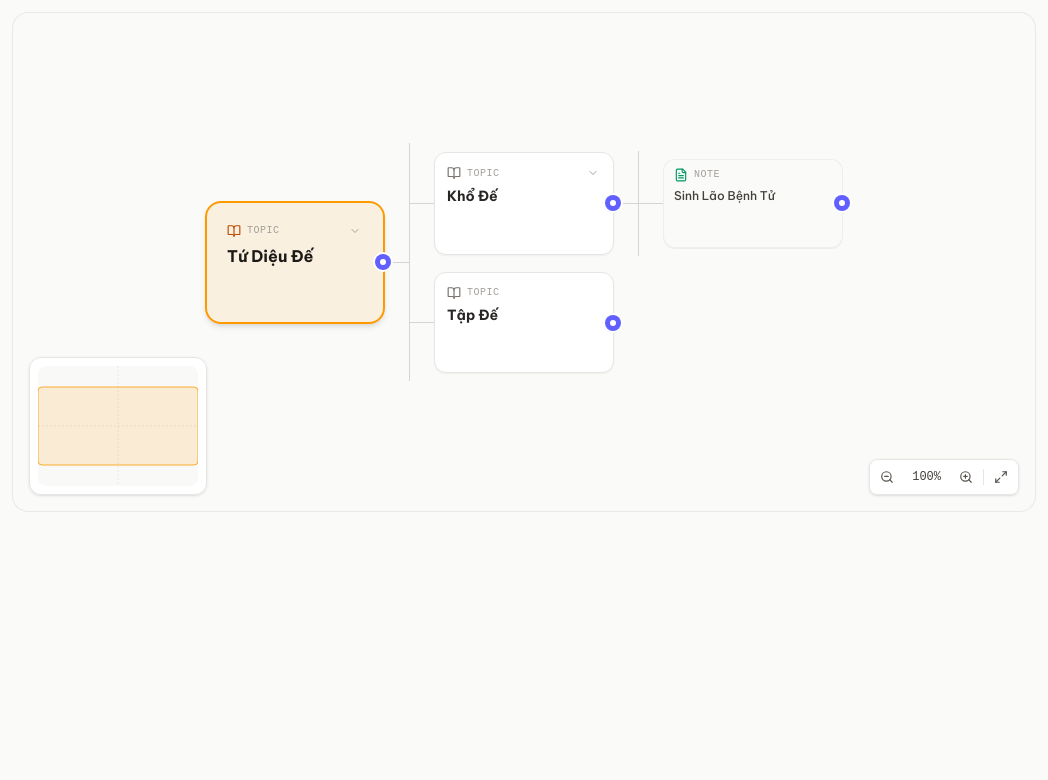
Scenario: Phase M5b — Canvas Direct Drag-to-Connect Unit Tests › 3. Preview Line Tracking & Cancellation › Scenario 3A: pointer-down on handle mounts preview line, pointer-move updates target coordinates
Press the mouse on the button with test id "connector-handle-node-kho-de" at (613, 203), box [605,195,621,211]
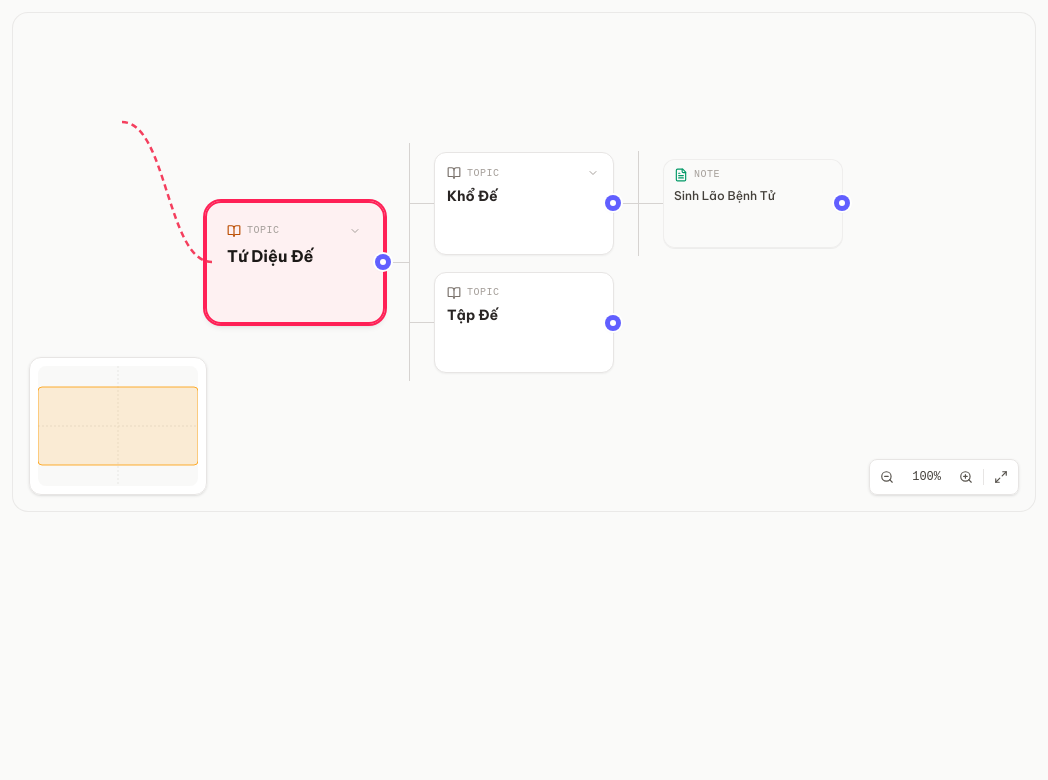
Expected: the element with test id "mindmap-connect-preview-line" is shown, [122,122,212,262]
Result: the icon with test id "mindmap-connect-preview-layer" is shown
